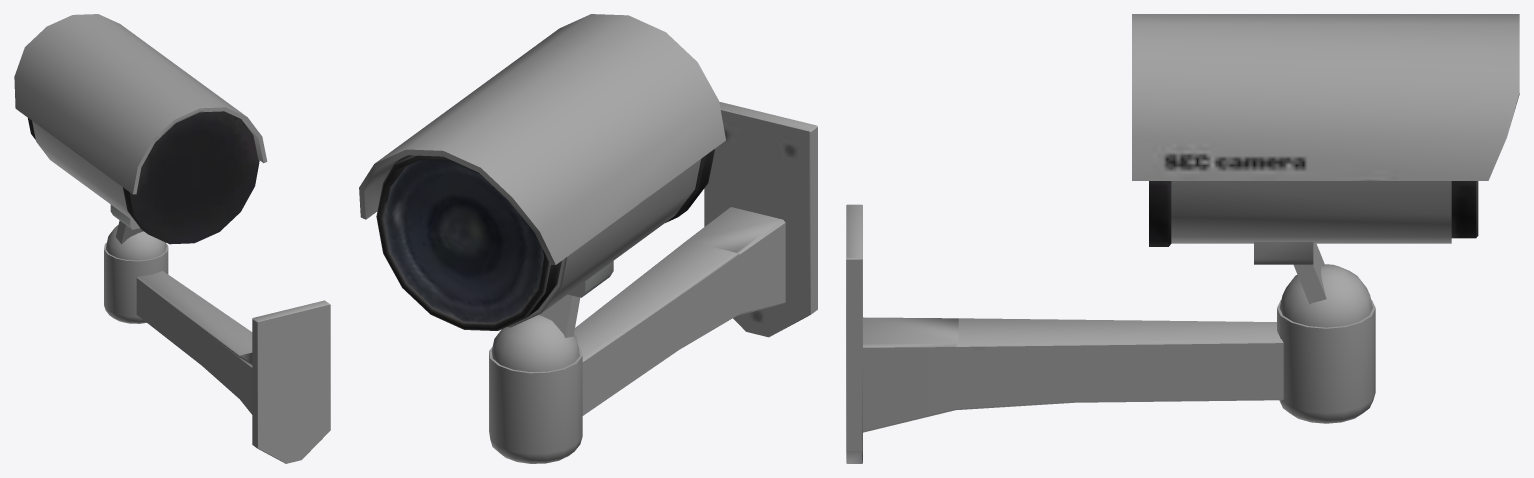
The model's file is SecurityCamera.glb.
3 renders of one model, left to right at view 1: azimuth 30°, elevation 25°; view 2: azimuth 150°, elevation 25°; view 3: azimuth 270°, elevation 25°, orthographic. The views are drawn at different scales.
Parts seen in each view (by area): view 1: Holder; view 2: Holder; view 3: Holder.
Boxes of the visible parts, x1,y1,x2,y2 form: Holder: [14, 14, 330, 463]; Holder: [359, 14, 817, 463]; Holder: [846, 14, 1519, 463].
Bounding box in the file's own units: 0.1379 × 0.2792 × 0.3935.
Materials: 1 (1 with a texture image).
